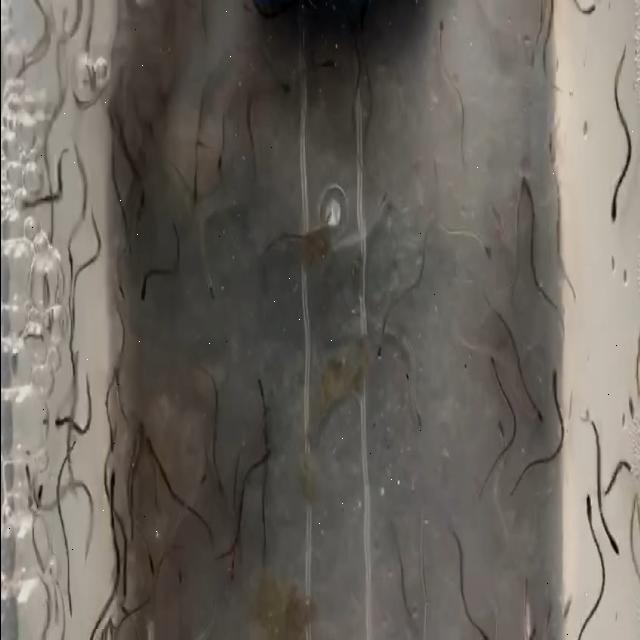active_glass_eel: (245, 374, 268, 408), (314, 49, 336, 82), (106, 461, 126, 497), (50, 401, 71, 435), (221, 554, 241, 586), (142, 540, 158, 580), (624, 394, 640, 434), (64, 576, 76, 628), (18, 454, 36, 488), (534, 393, 550, 431), (519, 173, 535, 210), (213, 138, 229, 175), (200, 279, 221, 307), (610, 181, 624, 223), (30, 486, 46, 522), (132, 278, 151, 308), (608, 534, 622, 574), (119, 580, 135, 614), (543, 179, 555, 223), (186, 173, 204, 202), (375, 183, 389, 219), (414, 403, 428, 438), (274, 75, 295, 98), (542, 124, 558, 154), (493, 414, 509, 444), (194, 455, 208, 489), (549, 357, 561, 396), (374, 319, 384, 363), (582, 494, 596, 520), (478, 618, 494, 640), (478, 240, 492, 264), (438, 15, 450, 41), (489, 344, 500, 370)
